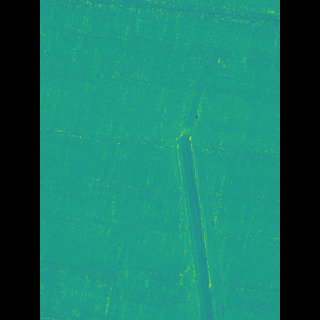Loch: (164, 29, 215, 319)
